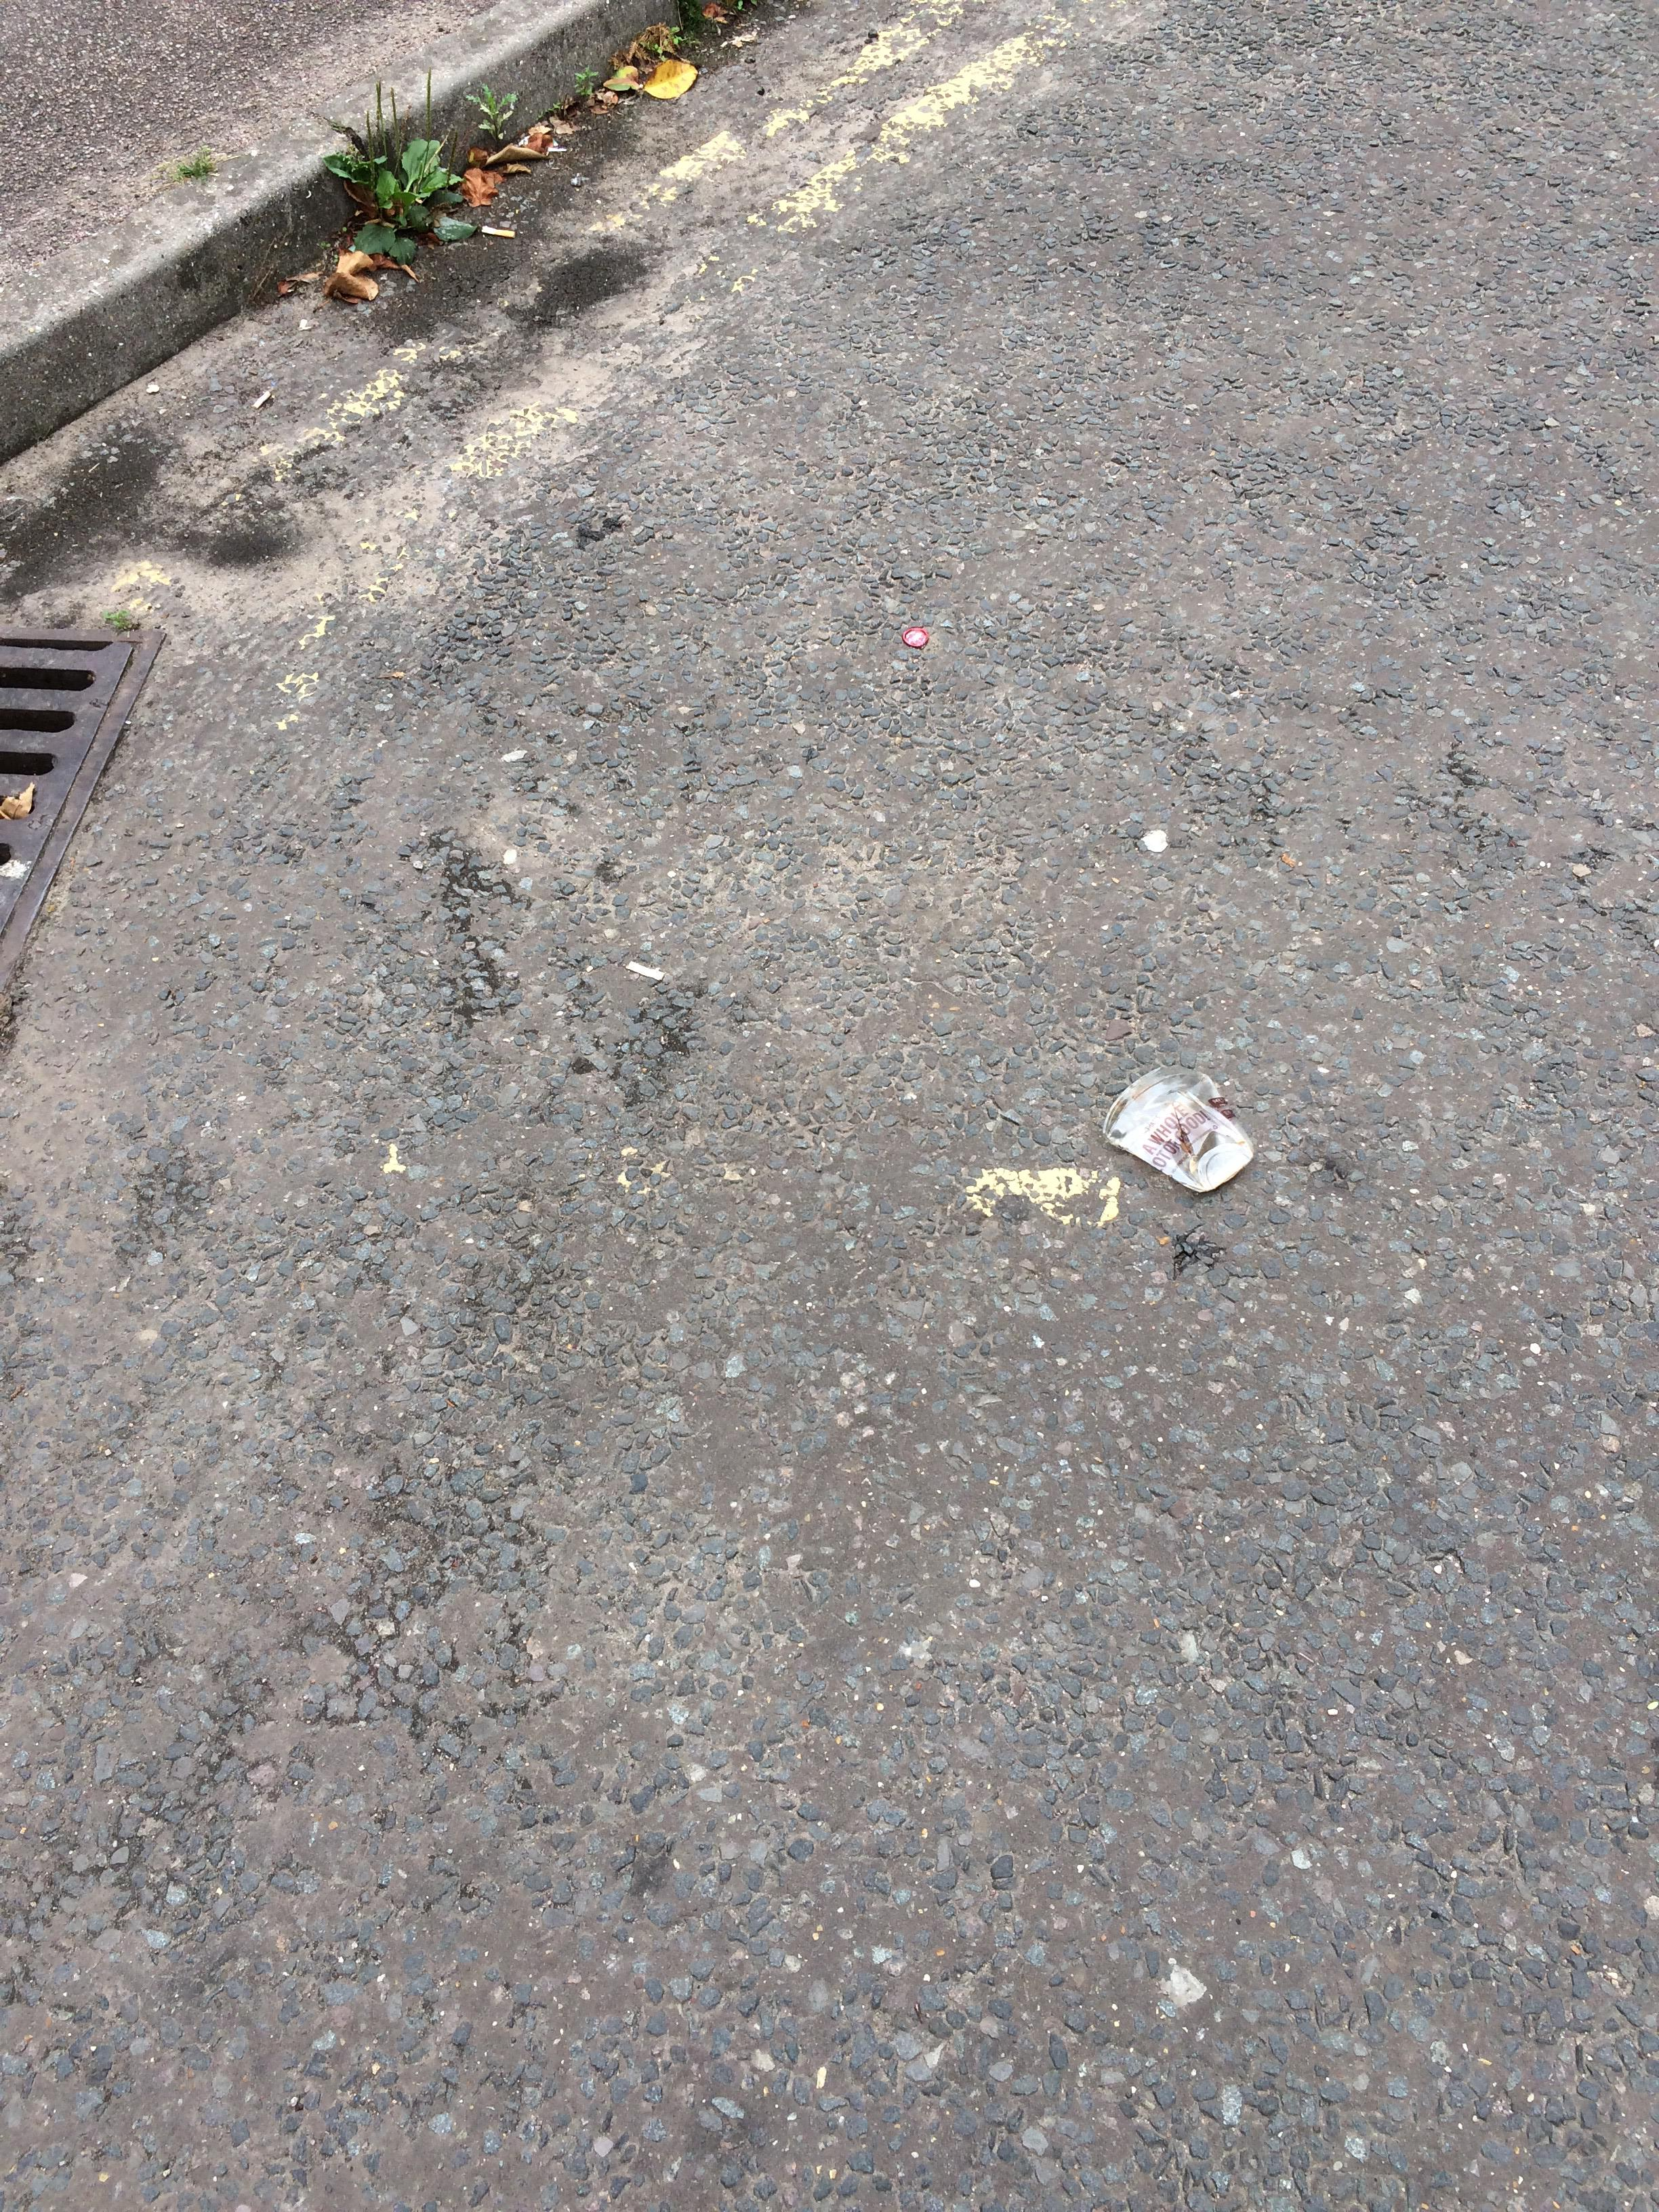Trash: (1110, 1042, 1253, 1223)
